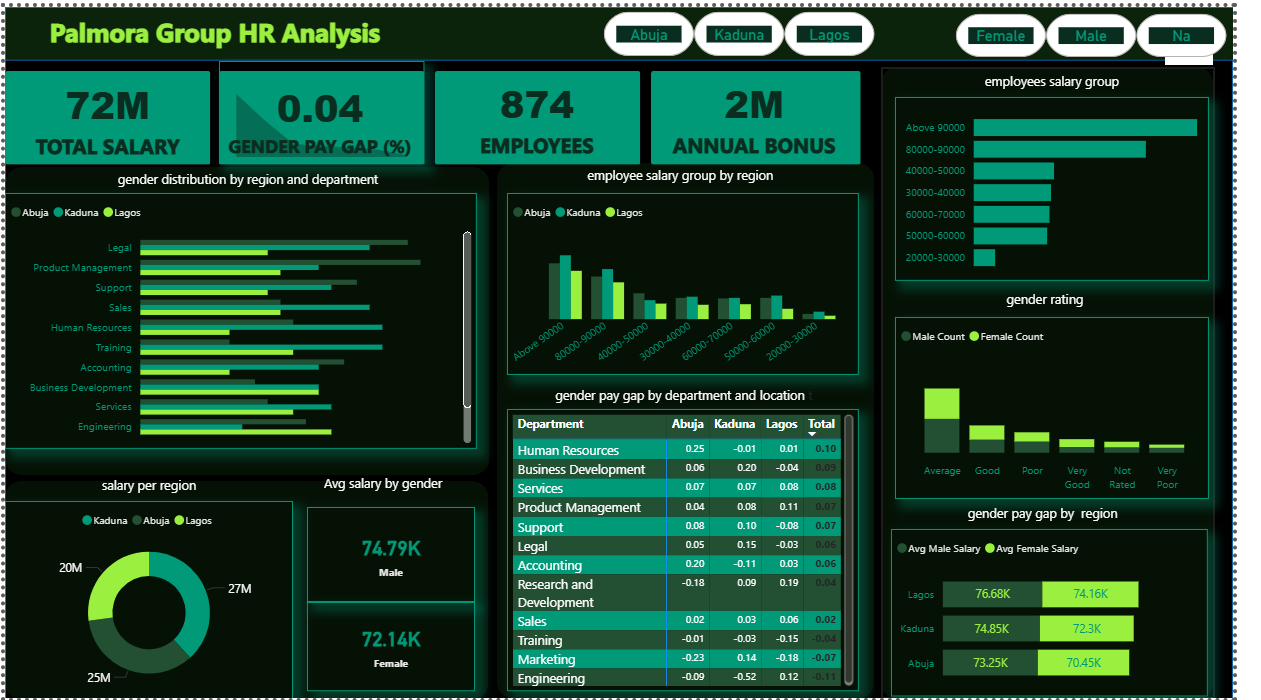

This screenshot's page, from the dashboard's own definition file:
{"tool":"powerbi","page":{"name":"Page 1","canvas":[1280,720],"ordinal":0},"visuals":[{"type":"shape","box":[0,0,1279.1,720.9],"z":0},{"type":"shape","box":[511.6,161.8,393,558.1],"z":1000},{"type":"pivotTable","fields":{"Rows":["Merge1.Department"],"Values":["Merge1.Gender Pay Gap (%)"],"Columns":["Merge1.Location"]},"box":[522.9,418.8,366.7,293.8],"z":2000},{"type":"shape","box":[0,0,1280.2,56],"z":3000},{"type":"shape","box":[0,494,503.6,227.7],"z":4000},{"type":"shape","box":[913.4,61.8,346.2,658.2],"z":5000},{"type":"shape","box":[0,167.4,504.7,320.9],"z":6000},{"type":"shape","box":[0,67.4,214,97.7],"z":7000},{"type":"shape","box":[223.3,67.4,214,97.7],"z":8000},{"type":"shape","box":[448.8,67.4,214,97.7],"z":9000},{"type":"shape","box":[672.1,67.4,218.6,97.7],"z":10000},{"type":"textbox","box":[22.9,164.6,460.4,37.5],"z":11000},{"type":"clusteredBarChart","fields":{"Category":["Merge1.Department"],"Series":["Merge1.Location"],"Y":["Merge1.Male Count"]},"box":[0,193.8,491.7,266.7],"z":12000},{"type":"columnChart","fields":{"Y":["Merge1.Male Count","Merge1.Female Count"],"Category":["Merge1.Rating"]},"box":[927.1,322.9,327.1,189.6],"z":13000},{"type":"barChart","fields":{"Category":["Merge1.Location"],"Y":["Merge1.Avg Male Salary","Merge1.Avg Female Salary"]},"box":[923.3,544.2,330.2,174.4],"z":14000},{"type":"card","fields":{"Values":["Merge1.Avg Male Salary"]},"box":[314.6,520.8,175,100],"z":15000},{"type":"card","fields":{"Values":["Merge1.Avg Female Salary"]},"box":[314.6,618.8,175,93.8],"z":16000},{"type":"clusteredBarChart","fields":{"Category":["Merge1.Salary_range"],"Y":["CountNonNull(Merge1.Name)"]},"box":[927.1,93.8,327.1,191.7],"z":17000},{"type":"clusteredColumnChart","fields":{"Category":["Merge1.Salary_range"],"Y":["CountNonNull(Merge1.Location)"],"Series":["Merge1.Location"]},"box":[522.9,193.8,366.7,189.6],"z":18000},{"type":"advancedSlicerVisual","fields":{"Values":["Merge1.Gender"]},"box":[986,2.3,293,55.8],"z":19000},{"type":"lineChart","fields":{"Y":["Sum(Merge1.Salary)"],"Category":["Merge1.Salary_range"]},"box":[223.3,55.8,214,107],"z":20000},{"type":"card","fields":{"Values":["Sum(Merge1.Total)"]},"box":[208.1,71,214.5,96.8],"z":21000},{"type":"card","fields":{"Values":["Count(Merge1.Name)"]},"box":[446.5,67.4,216.3,95.3],"z":22000},{"type":"card","fields":{"Values":["Sum(Merge1.Annual_bounce)"]},"box":[669.8,67.4,223.3,95.3],"z":23000},{"type":"textbox","box":[0,2,437.3,64.7],"z":24000},{"type":"donutChart","fields":{"Category":["Merge1.Location"],"Y":["Sum(Merge1.Total)"]},"box":[0,514.6,300,206.2],"z":25000},{"type":"advancedSlicerVisual","fields":{"Values":["Merge1.Location"]},"box":[619.6,0,294.1,56.9],"z":26000},{"type":"textbox","box":[933.3,289.6,300,37.5],"z":27000},{"type":"textbox","box":[997.9,512.5,179.2,35.4],"z":28000},{"type":"textbox","box":[522.9,389.6,368.8,29.2],"z":29000},{"type":"textbox","box":[243.8,481.2,300,41.7],"z":30000},{"type":"textbox","box":[927.1,62.5,327.1,56.2],"z":31000},{"type":"textbox","box":[537.5,160.4,335.4,58.3],"z":32000},{"type":"textbox","box":[0,483.3,300,37.5],"z":33000},{"type":"card","fields":{"Values":["Merge1.Gender Pay Gap (%)"]},"box":[1.6,62.9,217.7,100],"z":34000},{"type":"lineChart","fields":{"Y":["Sum(Merge1.Bonus_rating)"],"Category":["Merge1.Gender"]},"box":[0,61.3,212.9,106.5],"z":35000}]}

Visuals, with their boxes in screenshot pixels (x1, y1, x2, y2), scaled from the page's 1280x720 canvas onto the 1261x700 screenshot:
shape: (left=0, top=0, right=1260, bottom=699)
shape: (left=504, top=157, right=891, bottom=699)
pivotTable - Merge1.Department x Merge1.Gender Pay Gap (%): (left=515, top=407, right=876, bottom=693)
shape: (left=0, top=0, right=1260, bottom=54)
shape: (left=0, top=480, right=496, bottom=699)
shape: (left=900, top=60, right=1241, bottom=699)
shape: (left=0, top=163, right=497, bottom=475)
shape: (left=0, top=66, right=211, bottom=161)
shape: (left=220, top=66, right=431, bottom=161)
shape: (left=442, top=66, right=653, bottom=161)
shape: (left=662, top=66, right=877, bottom=161)
textbox: (left=23, top=160, right=476, bottom=196)
clusteredBarChart - Merge1.Department x Merge1.Location: (left=0, top=188, right=484, bottom=448)
columnChart - Merge1.Male Count x Merge1.Female Count: (left=913, top=314, right=1236, bottom=498)
barChart - Merge1.Location x Merge1.Avg Male Salary: (left=910, top=529, right=1235, bottom=699)
card - Merge1.Avg Male Salary: (left=310, top=506, right=482, bottom=604)
card - Merge1.Avg Female Salary: (left=310, top=602, right=482, bottom=693)
clusteredBarChart - Merge1.Salary_range x CountNonNull(Merge1.Name): (left=913, top=91, right=1236, bottom=278)
clusteredColumnChart - Merge1.Salary_range x CountNonNull(Merge1.Location): (left=515, top=188, right=876, bottom=373)
advancedSlicerVisual - Merge1.Gender: (left=971, top=2, right=1260, bottom=56)
lineChart - Sum(Merge1.Salary) x Merge1.Salary_range: (left=220, top=54, right=431, bottom=158)
card - Sum(Merge1.Total): (left=205, top=69, right=416, bottom=163)
card - Count(Merge1.Name): (left=440, top=66, right=653, bottom=158)
card - Sum(Merge1.Annual_bounce): (left=660, top=66, right=880, bottom=158)
textbox: (left=0, top=2, right=431, bottom=65)
donutChart - Merge1.Location x Sum(Merge1.Total): (left=0, top=500, right=296, bottom=699)
advancedSlicerVisual - Merge1.Location: (left=610, top=0, right=900, bottom=55)
textbox: (left=919, top=282, right=1215, bottom=318)
textbox: (left=983, top=498, right=1160, bottom=533)
textbox: (left=515, top=379, right=878, bottom=407)
textbox: (left=240, top=468, right=536, bottom=508)
textbox: (left=913, top=61, right=1236, bottom=115)
textbox: (left=530, top=156, right=860, bottom=213)
textbox: (left=0, top=470, right=296, bottom=506)
card - Merge1.Gender Pay Gap (%): (left=2, top=61, right=216, bottom=158)
lineChart - Sum(Merge1.Bonus_rating) x Merge1.Gender: (left=0, top=60, right=210, bottom=163)
